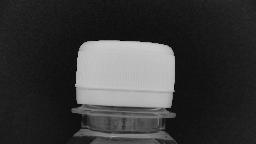Good Cap: (66, 34, 182, 122)
